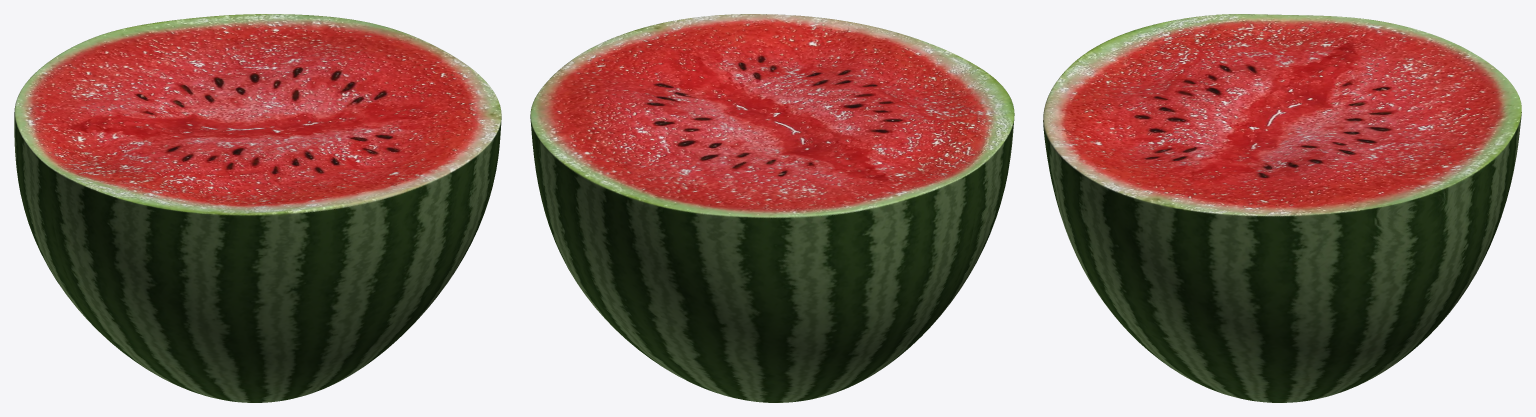
Rendered from half_of_juicy_watermelon.glb.
3 renders of one model, left to right at view 1: azimuth 30°, elevation 25°; view 2: azimuth 150°, elevation 25°; view 3: azimuth 270°, elevation 25°, orthographic.
Visible parts, largest first — view 1: watermelon_hp_half; view 2: watermelon_hp_half; view 3: watermelon_hp_half.
Part boxes in pixels (x1,y1,x2,y2): watermelon_hp_half: (14,14,501,402); watermelon_hp_half: (530,14,1014,402); watermelon_hp_half: (1043,14,1521,402).
Bounding box in the file's own units: 0.195 × 0.1246 × 0.1938.
Materials: 1 (1 with a texture image).
